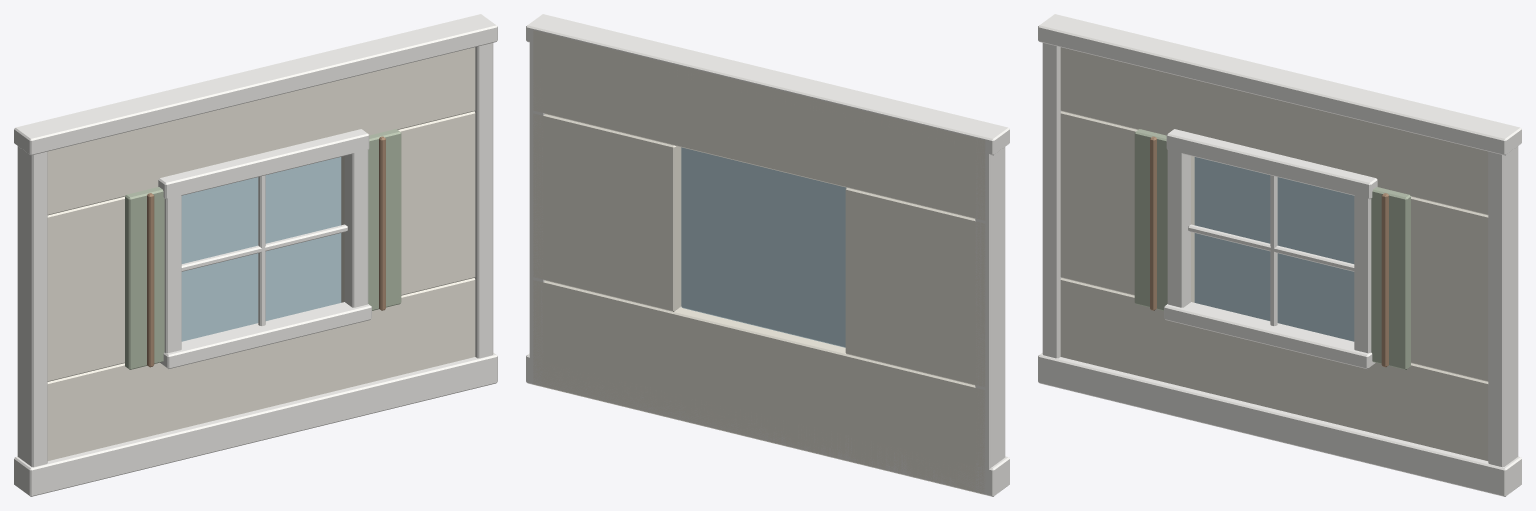
The model's file is SM_Wall_Window.fbx.
3 renders of one model, left to right at view 1: azimuth 30°, elevation 25°; view 2: azimuth 150°, elevation 25°; view 3: azimuth 330°, elevation 25°, orthographic.
Parts seen in each view (by area): view 1: Wall_Window; view 2: Wall_Window; view 3: Wall_Window.
Part boxes in pixels (bbox=[...]): Wall_Window: bbox=[14, 14, 497, 496]; Wall_Window: bbox=[526, 14, 1009, 496]; Wall_Window: bbox=[1038, 14, 1521, 496].
Size of the model in its own units: 412 by 301 by 35.
